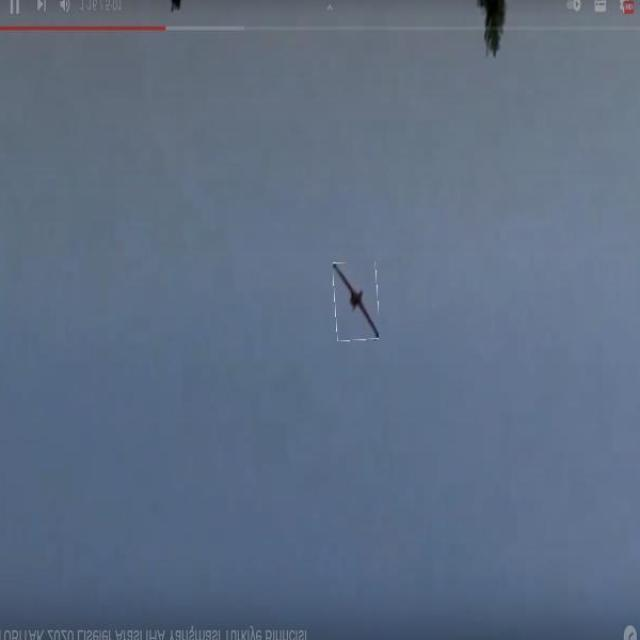plane: (331, 262, 382, 344)
